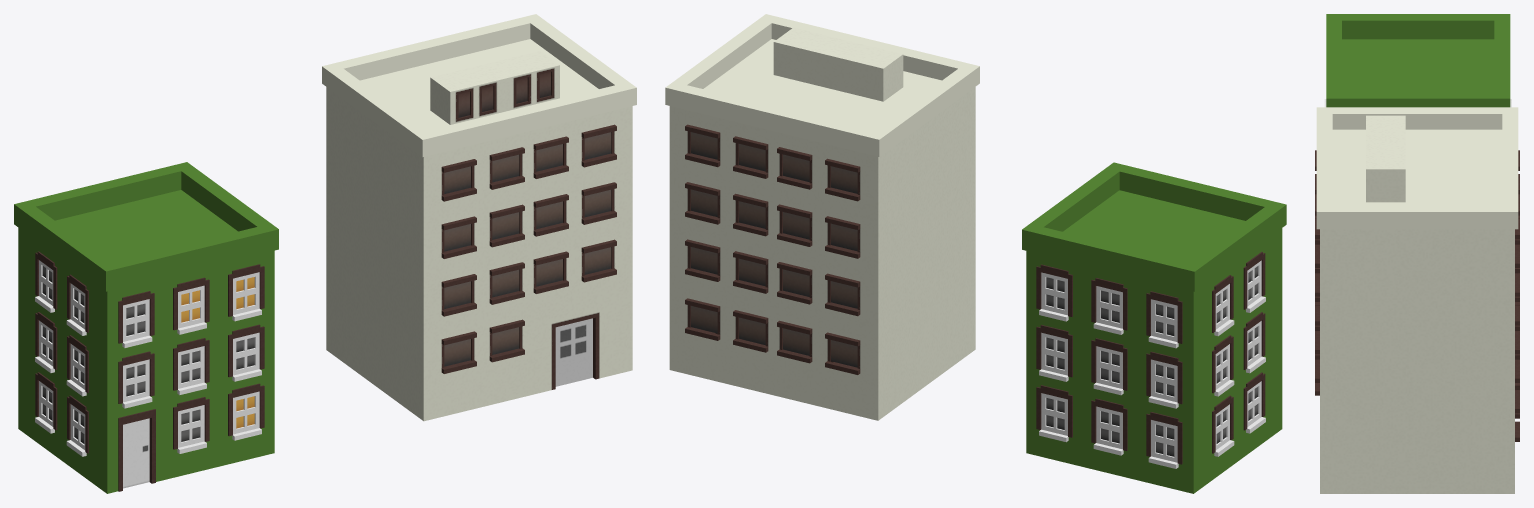
Rendered from City_07.fbx.
3 renders of one model, left to right at view 1: azimuth 30°, elevation 25°; view 2: azimuth 150°, elevation 25°; view 3: azimuth 270°, elevation 25°, orthographic.
Parts seen in each view (by area): view 1: Building_15, Building_14; view 2: Building_15, Building_14; view 3: Building_15, Building_14.
Boxes of the visible parts, <box> form: Building_15: <box>322,14,636,421</box>; Building_14: <box>14,162,278,493</box>; Building_15: <box>665,14,979,420</box>; Building_14: <box>1022,162,1286,493</box>; Building_15: <box>1315,107,1519,493</box>; Building_14: <box>1324,14,1511,107</box>.
Size of the model in its own units: 384 by 209 by 129.
